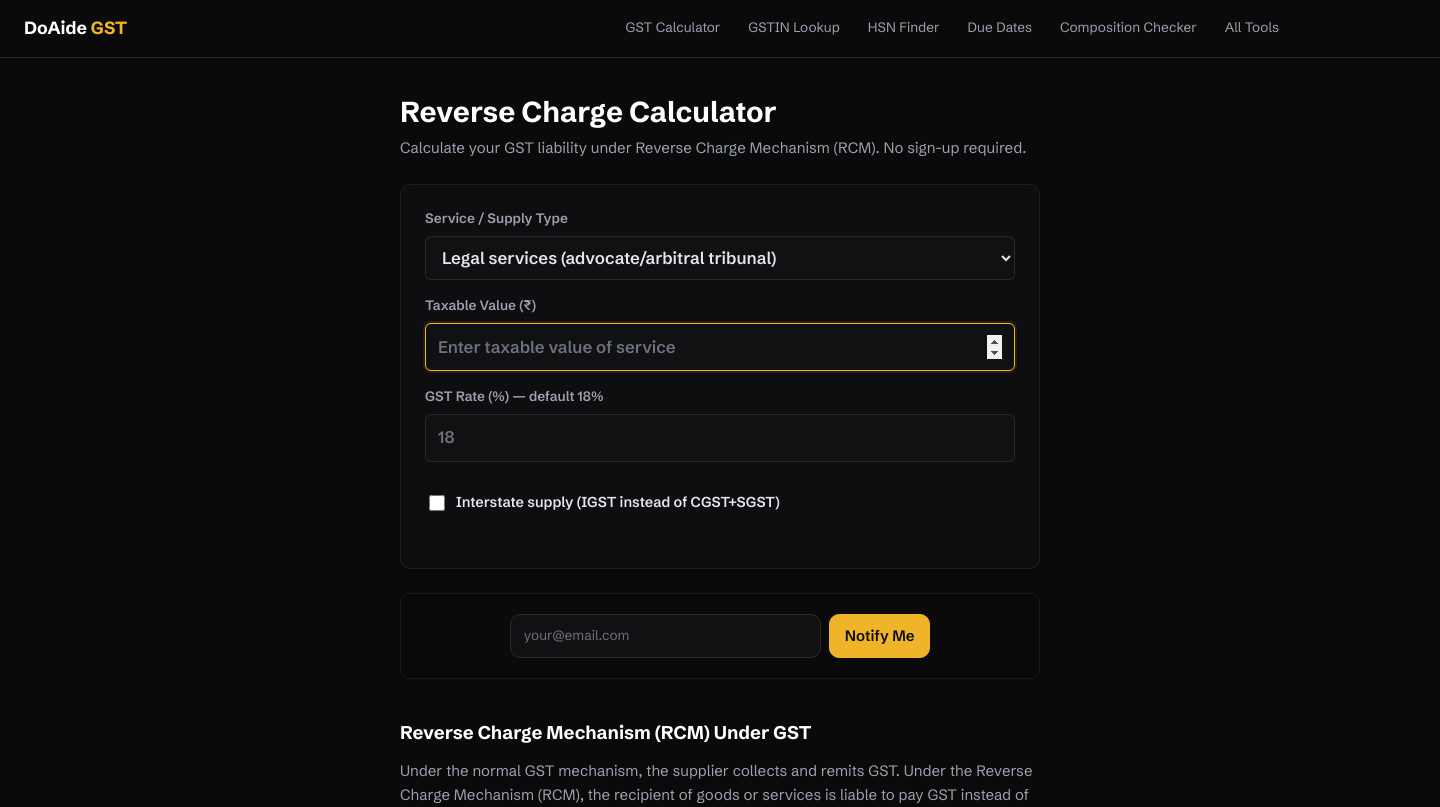
Scenario: ReverseChargePage › shows applicable result for legal services
Type "100000" into the number field with placeholder "Enter taxable value of service". click: {"x": 720, "y": 347}
box: [425, 323, 1015, 371]
(page scrolled)
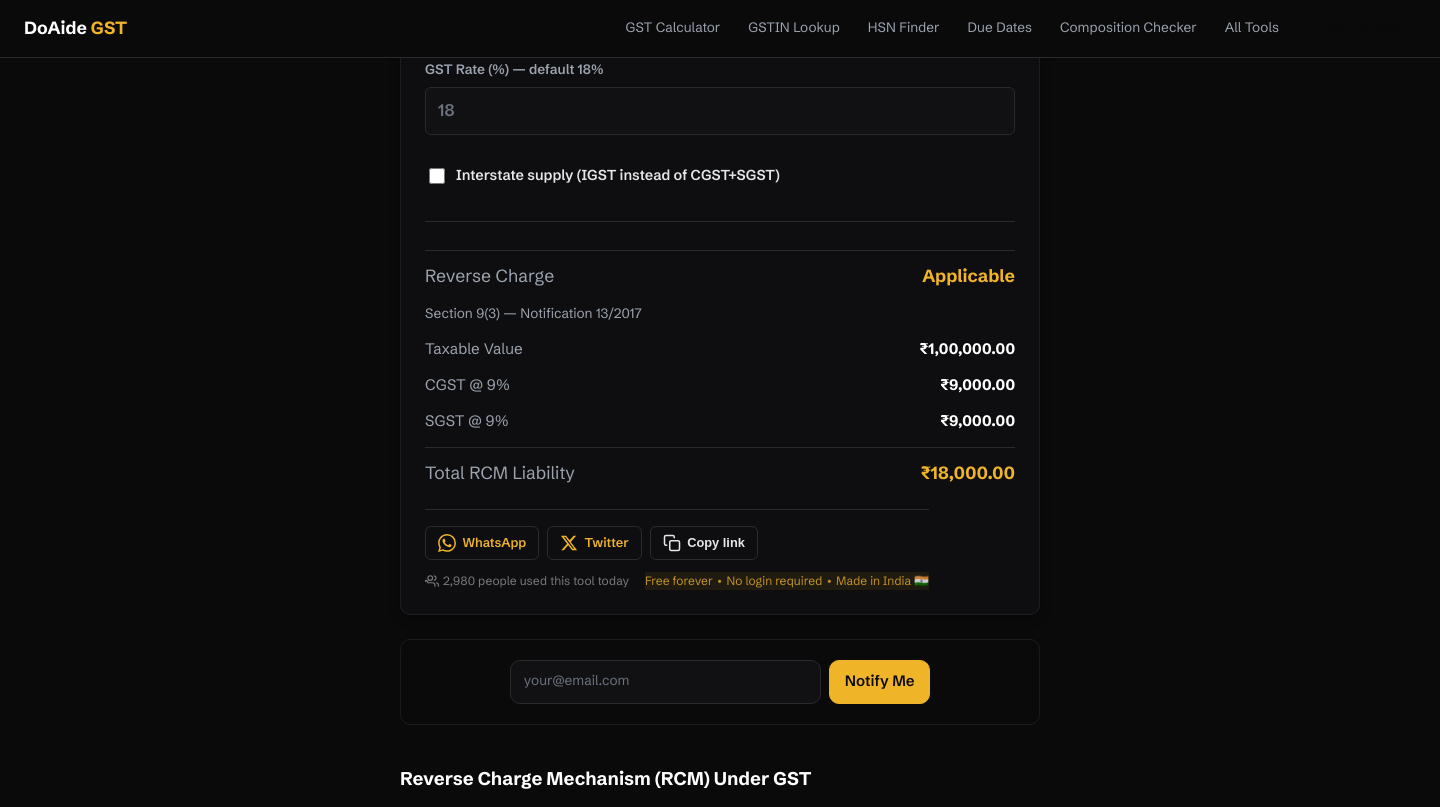
Check: the element with class "calc-result" is shown, box [425, 221, 1015, 590]
Check: the element with class "calc-result" shows "Applicable", box [922, 265, 1015, 287]
Check: the element with class "calc-result" shows "CGST", box [425, 375, 487, 394]
